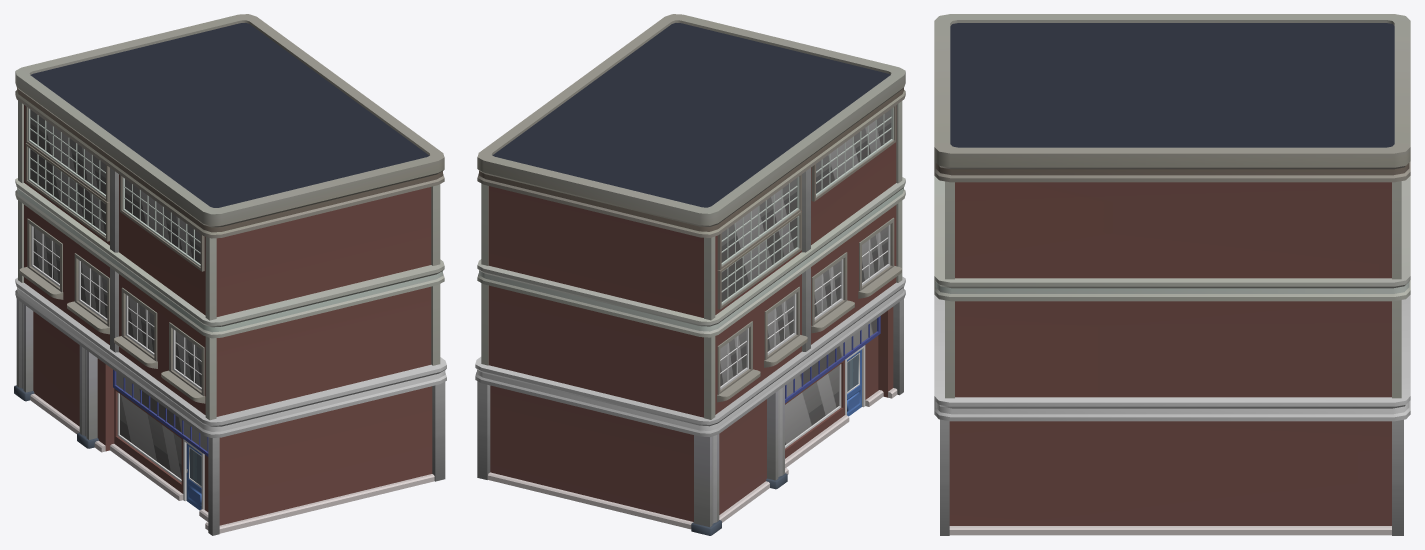
File: Building_11_1_I.fbx
The picture shows the model from 3 angles, left to right: view 1: azimuth 30°, elevation 25°; view 2: azimuth 150°, elevation 25°; view 3: azimuth 270°, elevation 25°; orthographic projection. The views are drawn at different scales.
Parts seen in each view (by area): view 1: Building_11_1_I; view 2: Building_11_1_I; view 3: Building_11_1_I.
Part boxes in pixels (x1,y1,x2,y2): Building_11_1_I: (14,14,446,535); Building_11_1_I: (475,14,905,535); Building_11_1_I: (934,14,1410,535).
Bounding box in the file's own units: 827 × 1034 × 1163.
